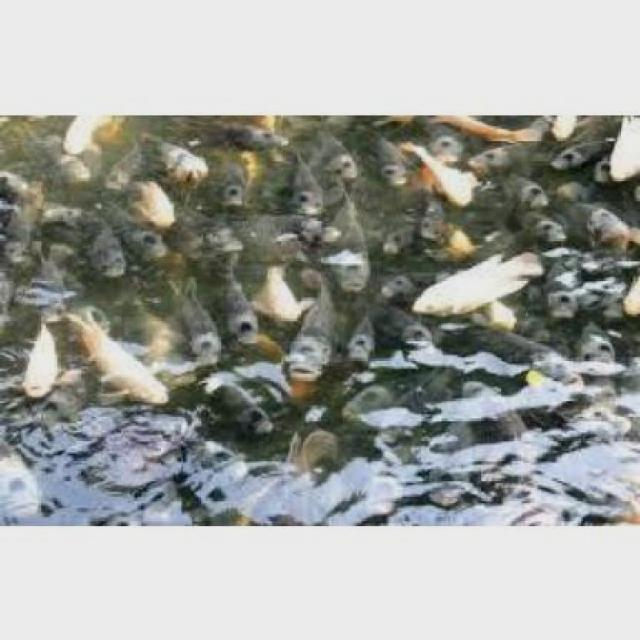gurame: (410, 258, 536, 324), (77, 318, 163, 402), (287, 281, 338, 384), (174, 278, 220, 371), (108, 208, 172, 260), (314, 113, 356, 182), (84, 216, 124, 276), (224, 276, 253, 349), (292, 158, 330, 212), (370, 125, 402, 186)
